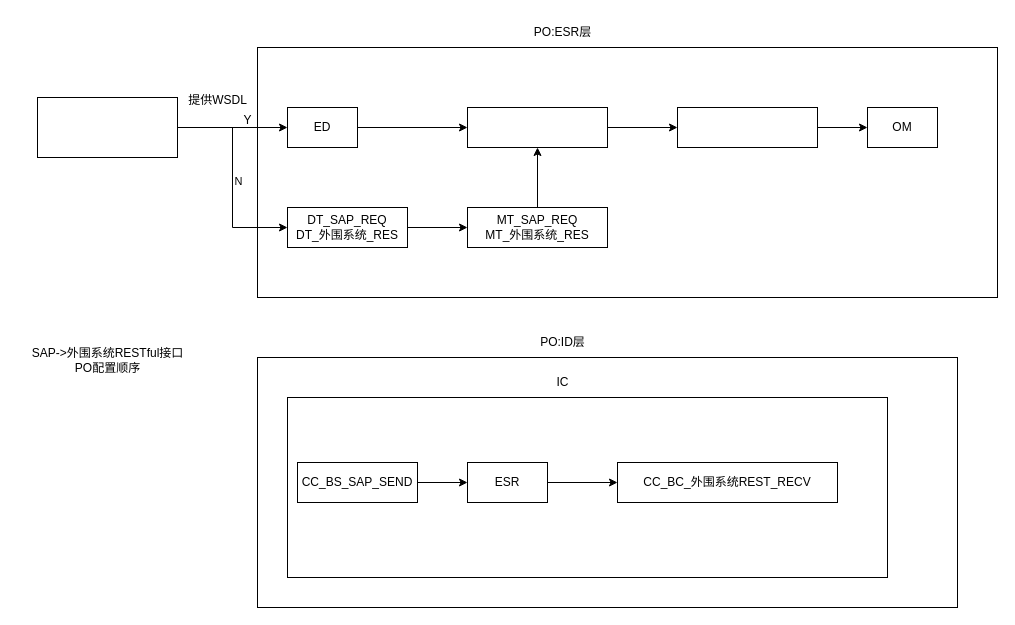
The diagram is 1015 pixels wide and 625 high, and some of its shapes have lost their labels. Here are the shapes that lost their labels. From the top down, the centre of each, then its label:
At point (107, 127): "外围系统提供接口文档 接口地址、接口参数、参考报文".
At point (537, 127): "SI_SAP_OUT SI_外围系统_IN".
At point (747, 127): "MM_SAP_REQ MM_外围系统_RES".
